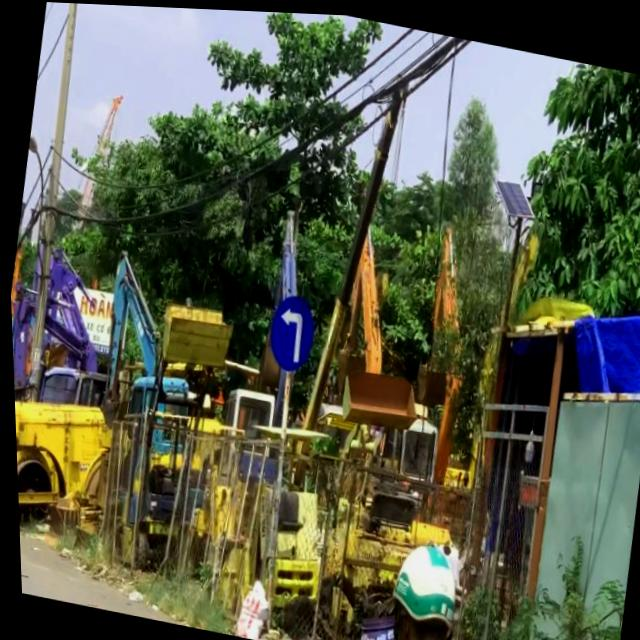Cac xe chi duoc re trai: (260, 286, 320, 377)
